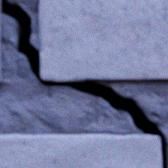brick: (39, 0, 167, 81), (0, 134, 160, 167), (0, 17, 1, 82)
crack: (0, 0, 167, 167)
